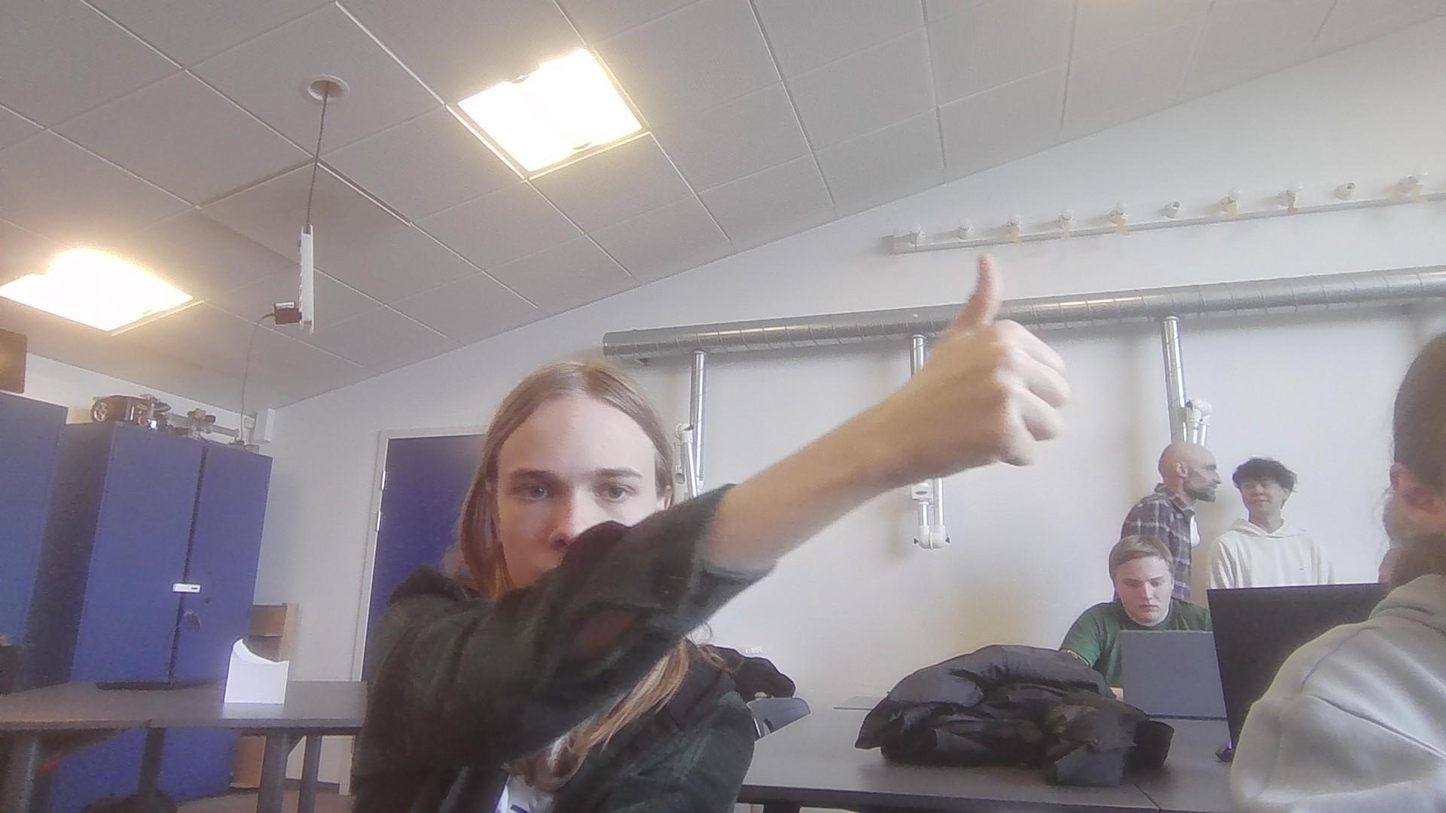thumbs up: (911, 243, 1068, 475)
